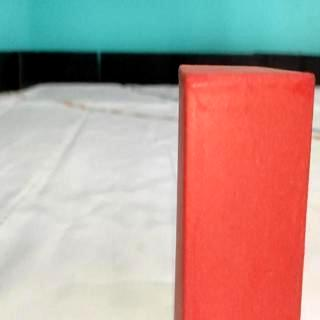redbox: (182, 68, 302, 320)
